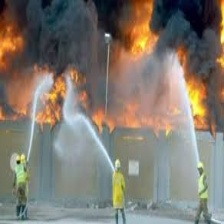fire: (35, 78, 108, 128), (130, 22, 154, 61), (186, 85, 207, 117)
smoke: (19, 3, 119, 75), (154, 6, 224, 90)
